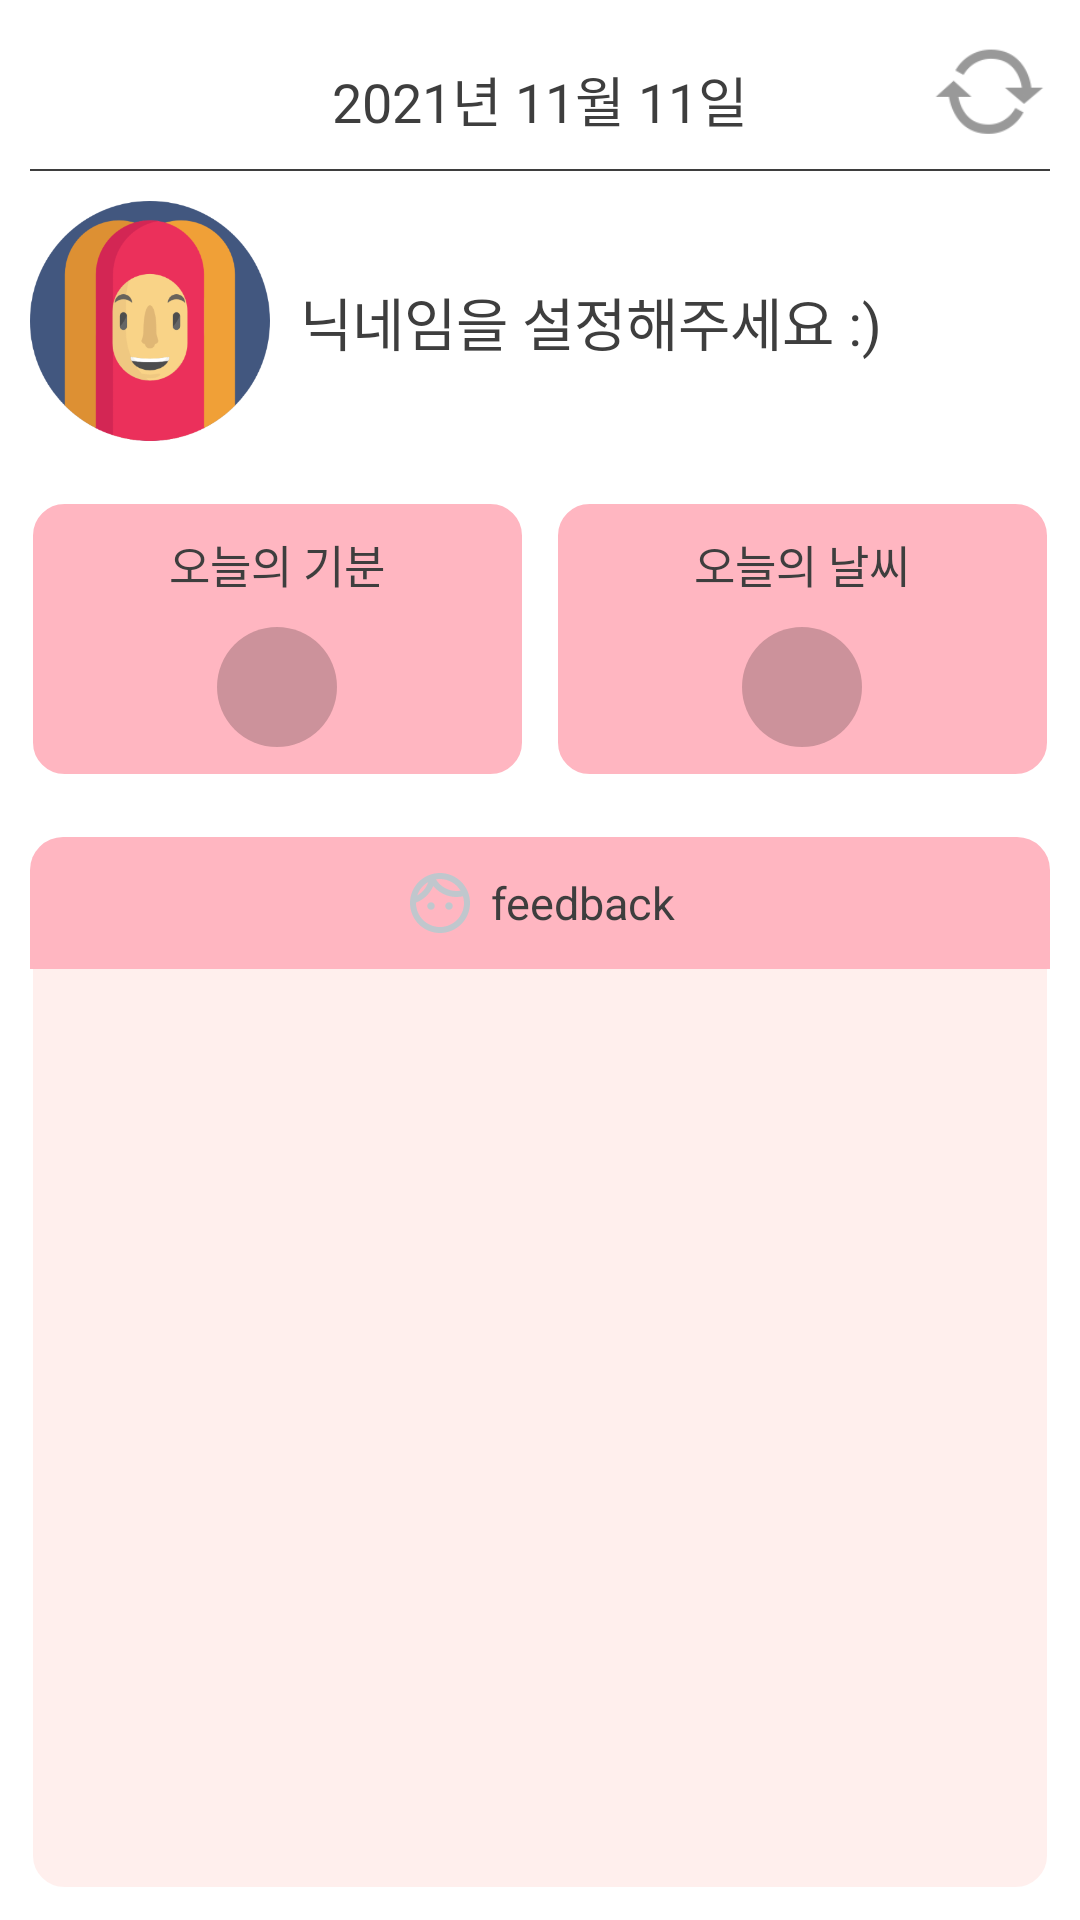

Where to tap for icons on this 1080*1920 app screen, as point (x, y):
face: point (440, 903)
profile hotdog: point (150, 321)
refresh: point (989, 91)
